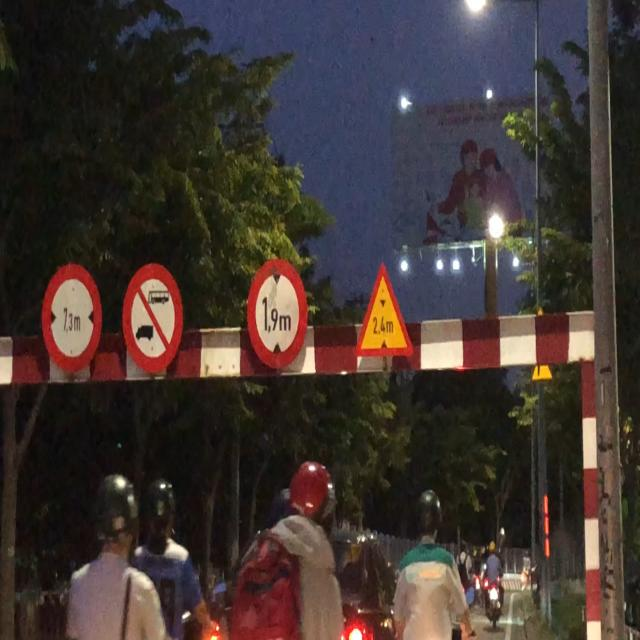Bien bao cam xe oto khach va xe oto tai: (120, 260, 184, 378)
Bien bao chieu cao tinh khong thuc te: (351, 252, 406, 366)
Bien bao han che chieu cao: (246, 256, 311, 376)
